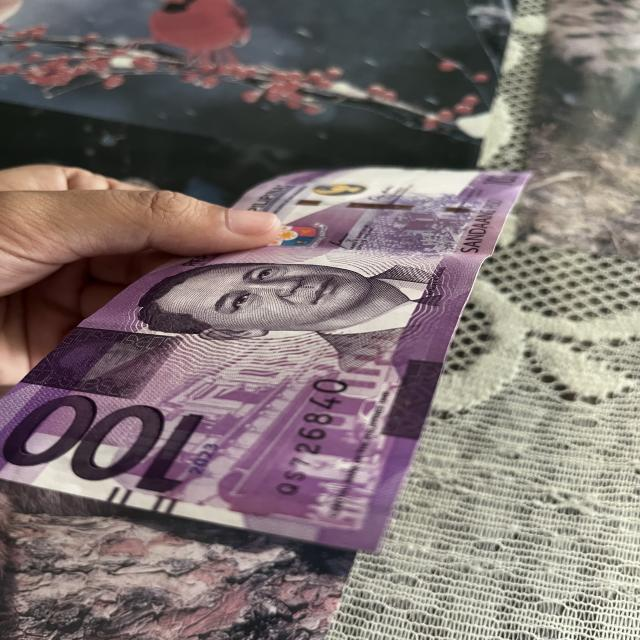concealed_value: (19, 325, 184, 401)
serial_number: (266, 372, 357, 509)
